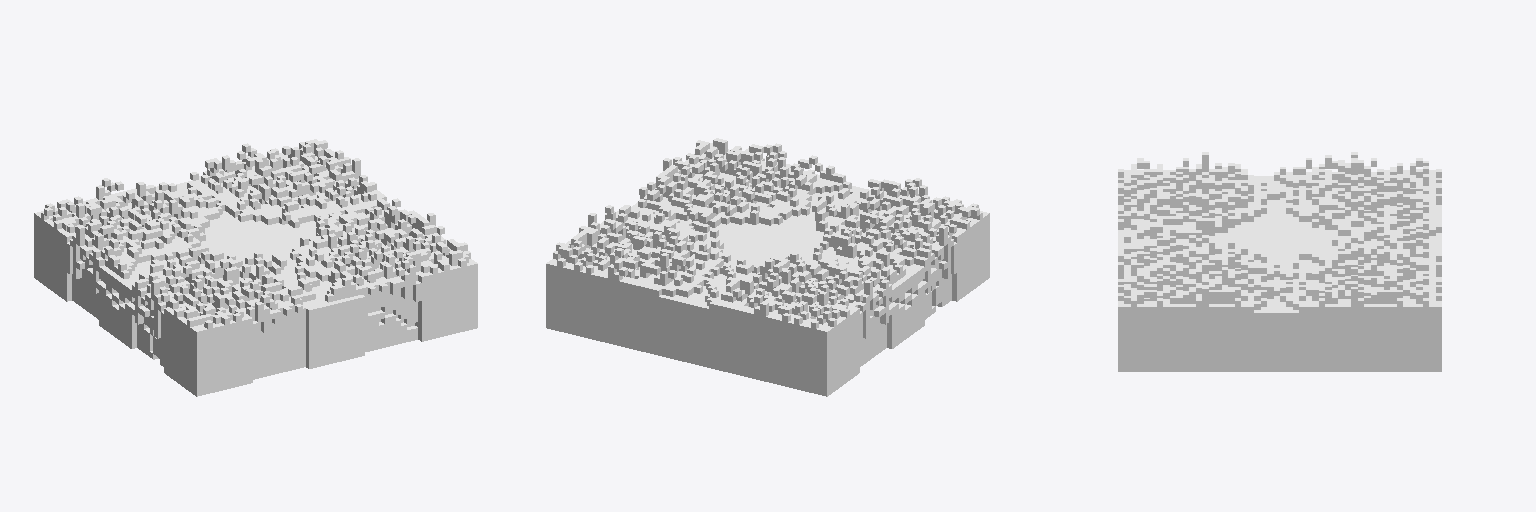
File: vox-9-Floor_Garden.obj
3 renders of one model, left to right at view 1: azimuth 30°, elevation 25°; view 2: azimuth 150°, elevation 25°; view 3: azimuth 270°, elevation 25°, orthographic.
Visible parts, largest first — view 1: Floor_Garden; view 2: Floor_Garden; view 3: Floor_Garden.
Part boxes in pixels (x1,y1,x2,y2): Floor_Garden: (34,139,477,396); Floor_Garden: (546,138,989,396); Floor_Garden: (1118,152,1441,371).
Size of the model in its own units: 5 by 1.6 by 5.